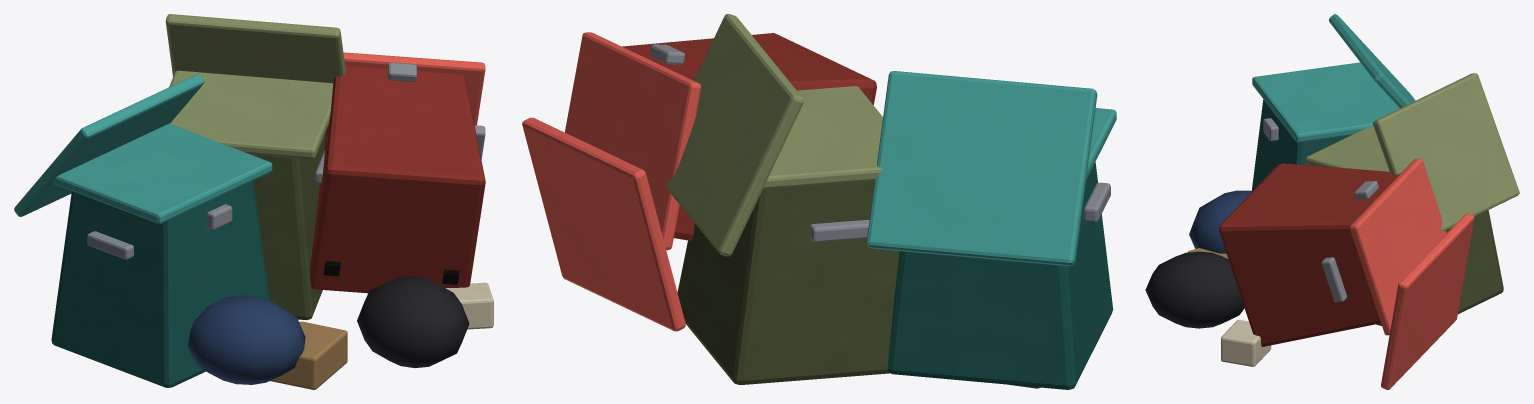
The model's file is misc_dumpster_pile.glb.
The picture shows the model from 3 angles, left to right: view 1: azimuth 30°, elevation 25°; view 2: azimuth 150°, elevation 25°; view 3: azimuth 270°, elevation 25°; orthographic projection. The views are drawn at different scales.
Parts seen in each view (by area): view 1: bin_misc_dumpster_pile_1_shell, bin_misc_dumpster_pile_0_shell, bin_misc_dumpster_pile_0_rim, bin_misc_dumpster_pile_2_rim, bin_misc_dumpster_pile_2_lid, bin_misc_dumpster_pile_2_shell, misc_dumpster_pile_bag_1, misc_dumpster_pile_bag_0, bin_misc_dumpster_pile_0_lid, misc_dumpster_pile_crate_0, bin_misc_dumpster_pile_1_rim, misc_dumpster_pile_crate_1 (+3 smaller); view 2: bin_misc_dumpster_pile_0_lid, bin_misc_dumpster_pile_2_shell, bin_misc_dumpster_pile_0_shell, bin_misc_dumpster_pile_1_lid, bin_misc_dumpster_pile_2_lid, bin_misc_dumpster_pile_1_rim, bin_misc_dumpster_pile_2_rim, bin_misc_dumpster_pile_1_shell, bin_misc_dumpster_pile_2_handle_l, bin_misc_dumpster_pile_0_rim, bin_misc_dumpster_pile_0_handle_l, bin_misc_dumpster_pile_1_latch; view 3: bin_misc_dumpster_pile_1_shell, bin_misc_dumpster_pile_2_lid, bin_misc_dumpster_pile_1_rim, bin_misc_dumpster_pile_0_rim, bin_misc_dumpster_pile_1_lid, misc_dumpster_pile_bag_0, bin_misc_dumpster_pile_2_shell, bin_misc_dumpster_pile_0_shell, bin_misc_dumpster_pile_2_rim, misc_dumpster_pile_bag_1, bin_misc_dumpster_pile_0_lid, misc_dumpster_pile_crate_1 (+2 smaller).
Boxes of the visible parts, x1=… form: bin_misc_dumpster_pile_1_shell: x1=310, y1=65, x2=485, y2=293; bin_misc_dumpster_pile_0_shell: x1=51, y1=181, x2=269, y2=387; bin_misc_dumpster_pile_0_rim: x1=53, y1=123, x2=272, y2=223; bin_misc_dumpster_pile_2_rim: x1=169, y1=70, x2=333, y2=158; bin_misc_dumpster_pile_2_lid: x1=165, y1=14, x2=345, y2=83; bin_misc_dumpster_pile_2_shell: x1=249, y1=131, x2=325, y2=320; misc_dumpster_pile_bag_1: x1=188, y1=295, x2=305, y2=384; misc_dumpster_pile_bag_0: x1=357, y1=276, x2=469, y2=367; bin_misc_dumpster_pile_0_lid: x1=14, y1=74, x2=204, y2=216; misc_dumpster_pile_crate_0: x1=270, y1=321, x2=347, y2=389; bin_misc_dumpster_pile_1_rim: x1=343, y1=52, x2=485, y2=125; misc_dumpster_pile_crate_1: x1=445, y1=282, x2=493, y2=329; bin_misc_dumpster_pile_0_lid: x1=866, y1=71, x2=1097, y2=266; bin_misc_dumpster_pile_2_shell: x1=677, y1=180, x2=899, y2=384; bin_misc_dumpster_pile_0_shell: x1=887, y1=162, x2=1113, y2=389; bin_misc_dumpster_pile_1_lid: x1=522, y1=117, x2=685, y2=331; bin_misc_dumpster_pile_2_lid: x1=665, y1=14, x2=803, y2=256; bin_misc_dumpster_pile_1_rim: x1=565, y1=32, x2=701, y2=250; bin_misc_dumpster_pile_2_rim: x1=763, y1=86, x2=882, y2=189; bin_misc_dumpster_pile_1_shell: x1=622, y1=33, x2=876, y2=240; bin_misc_dumpster_pile_2_handle_l: x1=809, y1=219, x2=869, y2=242; bin_misc_dumpster_pile_0_rim: x1=1086, y1=108, x2=1116, y2=179; bin_misc_dumpster_pile_0_handle_l: x1=1083, y1=182, x2=1110, y2=222; bin_misc_dumpster_pile_1_latch: x1=649, y1=44, x2=684, y2=64; bin_misc_dumpster_pile_1_shell: x1=1219, y1=163, x2=1400, y2=346; bin_misc_dumpster_pile_2_lid: x1=1373, y1=73, x2=1519, y2=231; bin_misc_dumpster_pile_1_rim: x1=1350, y1=158, x2=1446, y2=335; bin_misc_dumpster_pile_0_rim: x1=1252, y1=62, x2=1399, y2=142; bin_misc_dumpster_pile_1_lid: x1=1381, y1=213, x2=1474, y2=389; misc_dumpster_pile_bag_0: x1=1145, y1=251, x2=1244, y2=328; bin_misc_dumpster_pile_2_shell: x1=1376, y1=210, x2=1503, y2=325; bin_misc_dumpster_pile_0_shell: x1=1251, y1=99, x2=1348, y2=190; bin_misc_dumpster_pile_2_rim: x1=1305, y1=126, x2=1389, y2=171; misc_dumpster_pile_bag_1: x1=1189, y1=190, x2=1252, y2=253; bin_misc_dumpster_pile_0_lid: x1=1329, y1=14, x2=1415, y2=107; misc_dumpster_pile_crate_1: x1=1221, y1=320, x2=1271, y2=366.
Size of the model in its own units: 2.95 by 1.52 by 2.4.
Materials: 13 (13 with a texture image).
